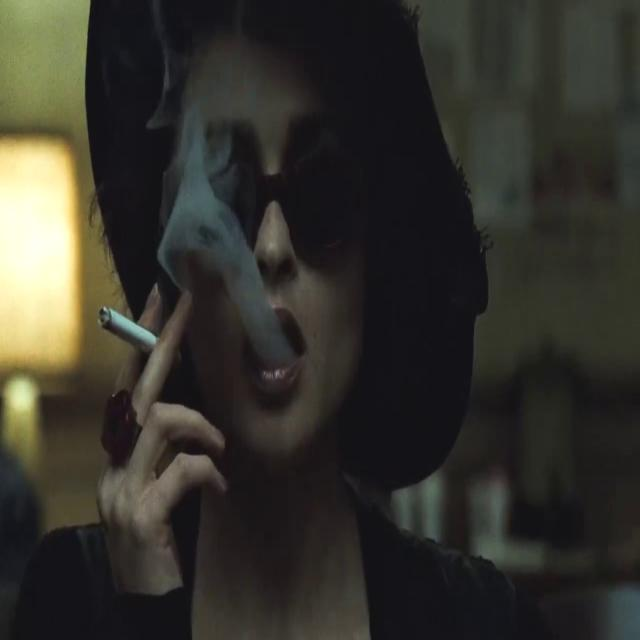Smooking: (89, 301, 174, 367)
